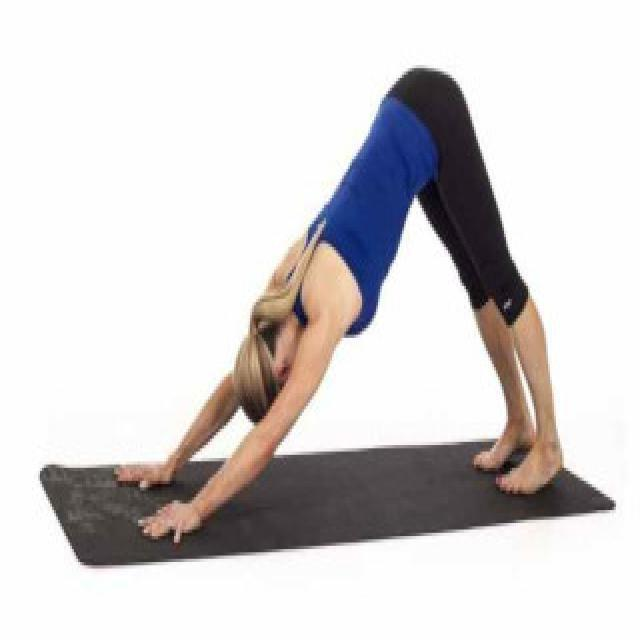yoga-pose downward: (117, 69, 562, 539)
